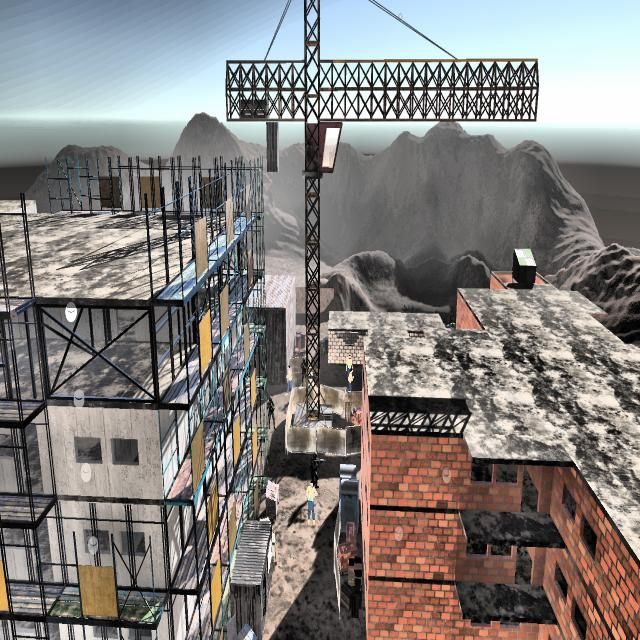bad: (310, 448, 324, 491), (266, 390, 276, 436), (300, 351, 309, 384)
good: (304, 481, 318, 529), (283, 361, 293, 395), (344, 367, 354, 390), (344, 350, 353, 372)
